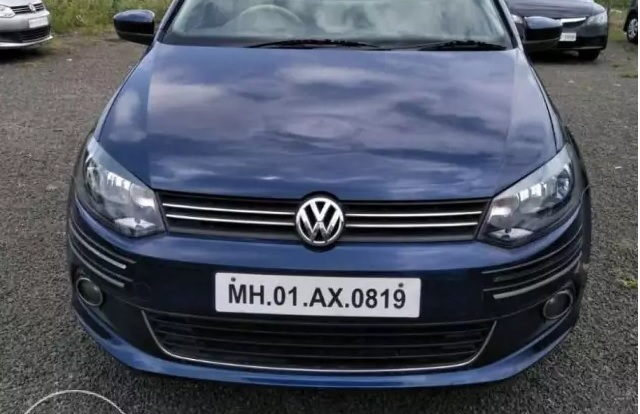licenseplate: (211, 268, 424, 321)
